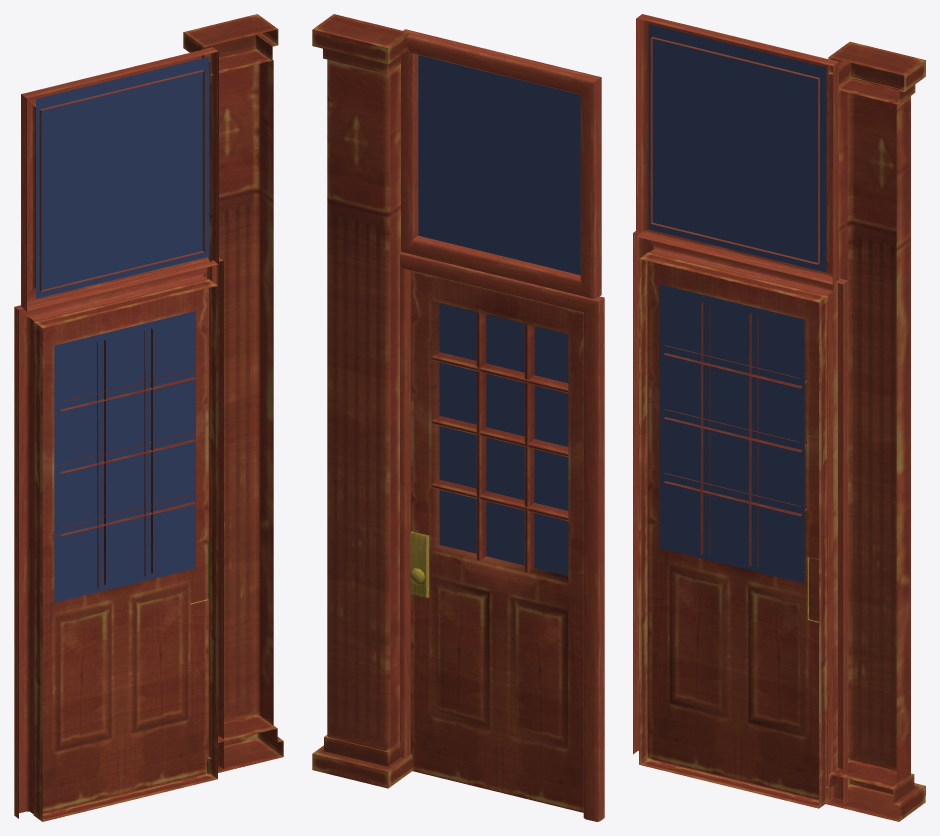
Rendered from Shop_1_3_5 (10).fbx.
The picture shows the model from 3 angles, left to right: view 1: azimuth 30°, elevation 25°; view 2: azimuth 150°, elevation 25°; view 3: azimuth 330°, elevation 25°; orthographic projection. The views are drawn at different scales.
Parts seen in each view (by area): view 1: Shop_1_3_5__10_; view 2: Shop_1_3_5__10_; view 3: Shop_1_3_5__10_.
Part boxes in pixels (<box>): Shop_1_3_5__10_: <box>14,14,283,821</box>; Shop_1_3_5__10_: <box>312,14,604,821</box>; Shop_1_3_5__10_: <box>633,14,925,821</box>.
Size of the model in its own units: 128 by 339 by 27.42.
